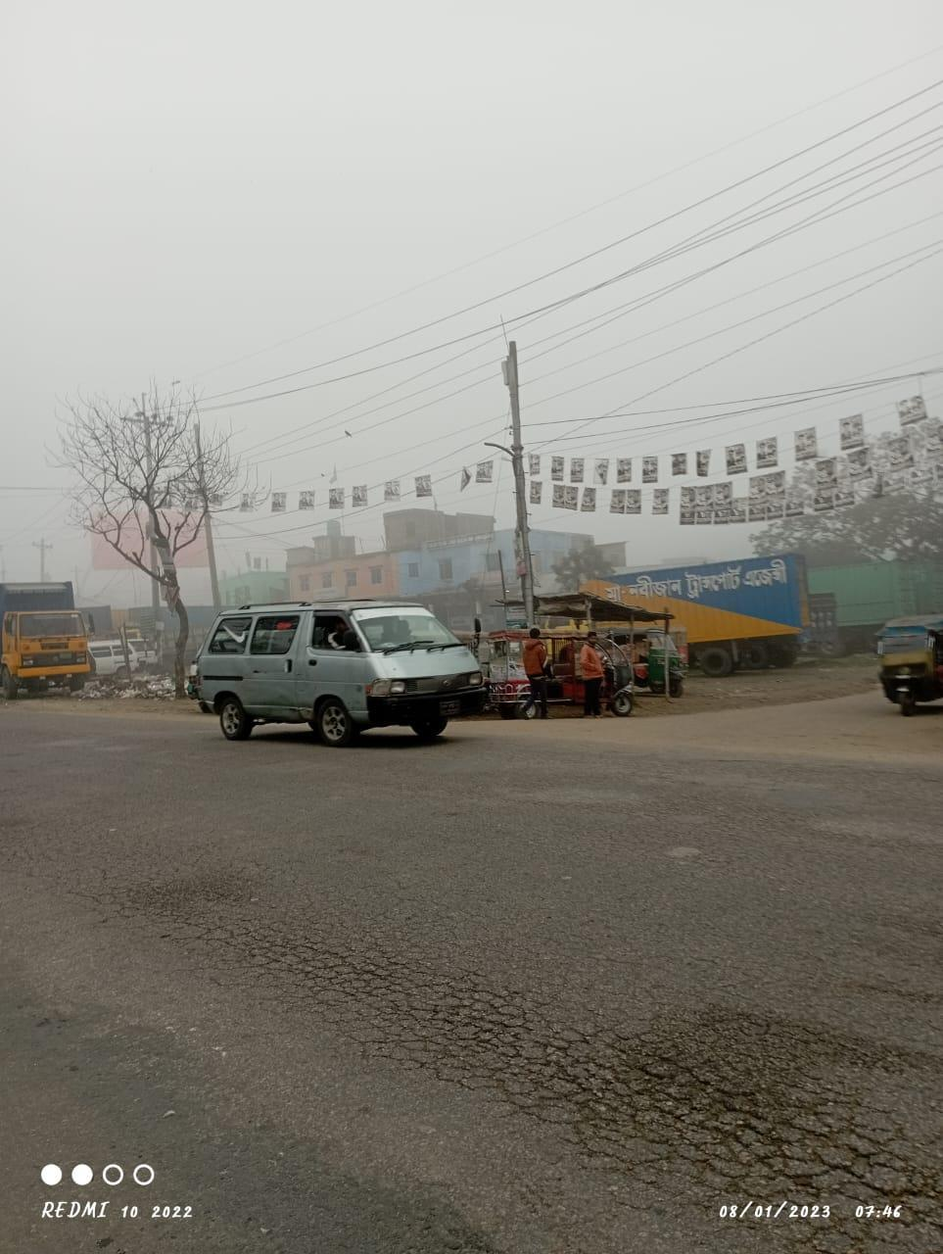Car: (185, 589, 491, 757), (497, 618, 642, 728)
Truck: (4, 571, 100, 697)
